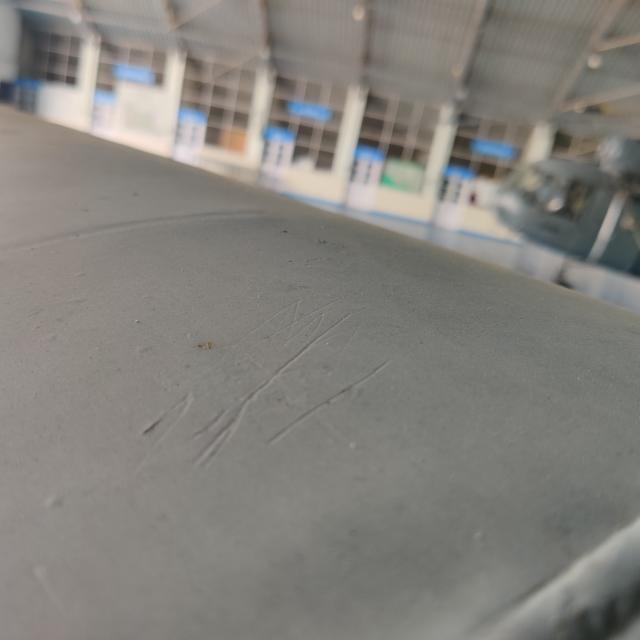scratch: (133, 290, 406, 488)
